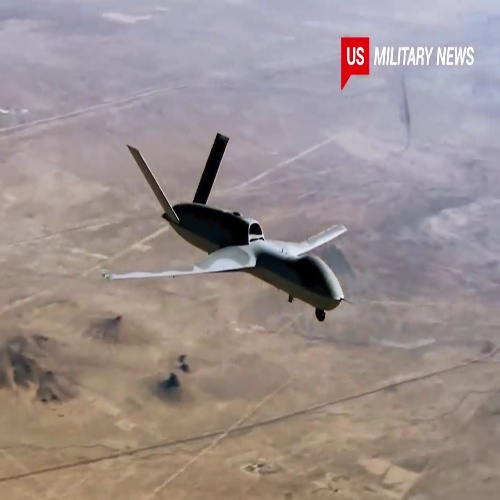uav: (99, 136, 352, 322)
